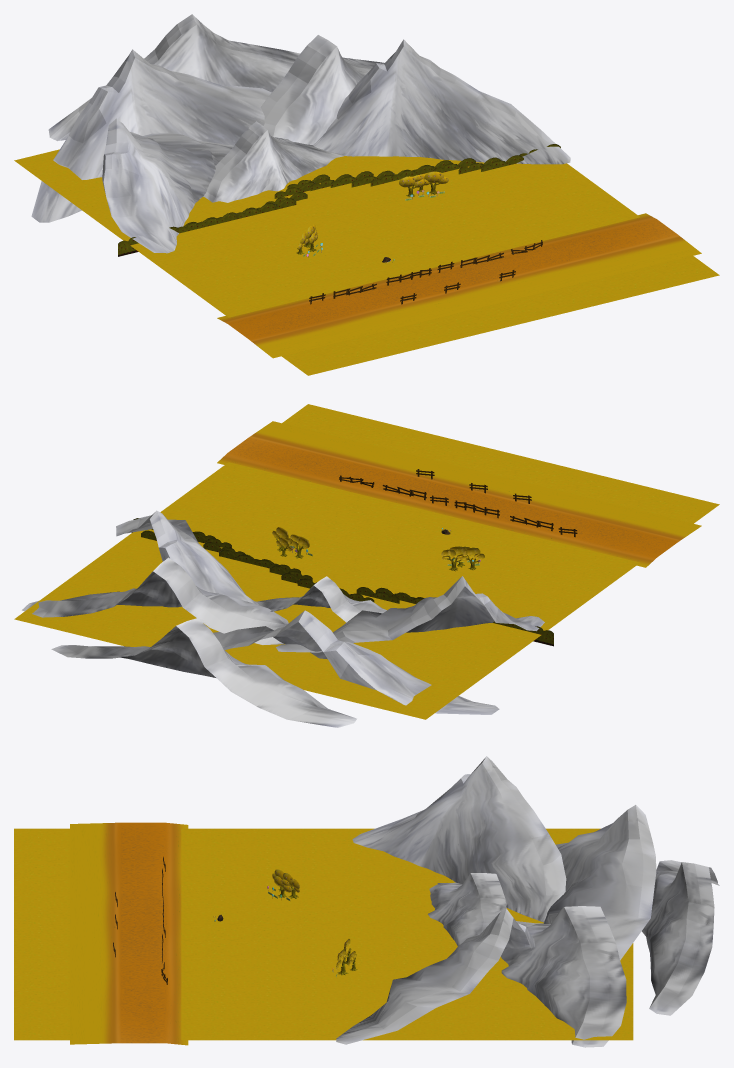
Rendered from 332_bg_roadB.fbx.
3 renders of one model, top to bottom at view 1: azimuth 30°, elevation 25°; view 2: azimuth 150°, elevation 25°; view 3: azimuth 270°, elevation 25°, orthographic. The views are drawn at different scales.
Parts seen in each view (by area): view 1: ground, bg_road_model:pPlane459, polySurface1, polySurface17, polySurface18, polySurface19, polySurface20, polySurface16; view 2: ground, bg_road_model:pPlane459, polySurface20, polySurface19, polySurface17, polySurface18, polySurface1, polySurface16; view 3: ground, bg_road_model:pPlane459, polySurface18, polySurface19, polySurface17, polySurface20, polySurface1, polySurface16.
Boxes of the visible parts, <box> form: ground: <box>14,149,719,375</box>; bg_road_model:pPlane459: <box>217,213,701,358</box>; polySurface1: <box>313,39,570,164</box>; polySurface17: <box>31,49,271,222</box>; polySurface18: <box>102,118,233,253</box>; polySurface19: <box>260,35,384,144</box>; polySurface20: <box>48,14,300,141</box>; polySurface16: <box>203,121,343,202</box>; ground: <box>14,404,719,719</box>; bg_road_model:pPlane459: <box>217,421,701,567</box>; polySurface20: <box>51,618,356,727</box>; polySurface19: <box>22,557,288,644</box>; polySurface17: <box>213,610,499,714</box>; polySurface18: <box>276,576,544,652</box>; polySurface1: <box>116,510,258,604</box>; polySurface16: <box>255,576,386,622</box>; ground: <box>14,828,633,1040</box>; bg_road_model:pPlane459: <box>70,822,188,1045</box>; polySurface18: <box>352,756,566,922</box>; polySurface19: <box>501,906,626,1047</box>; polySurface17: <box>544,805,656,960</box>; polySurface20: <box>642,860,719,1015</box>; polySurface1: <box>336,908,535,1044</box>; polySurface16: <box>428,873,506,945</box>.
Bounding box in the file's own units: 5571 × 1254 × 7272.
